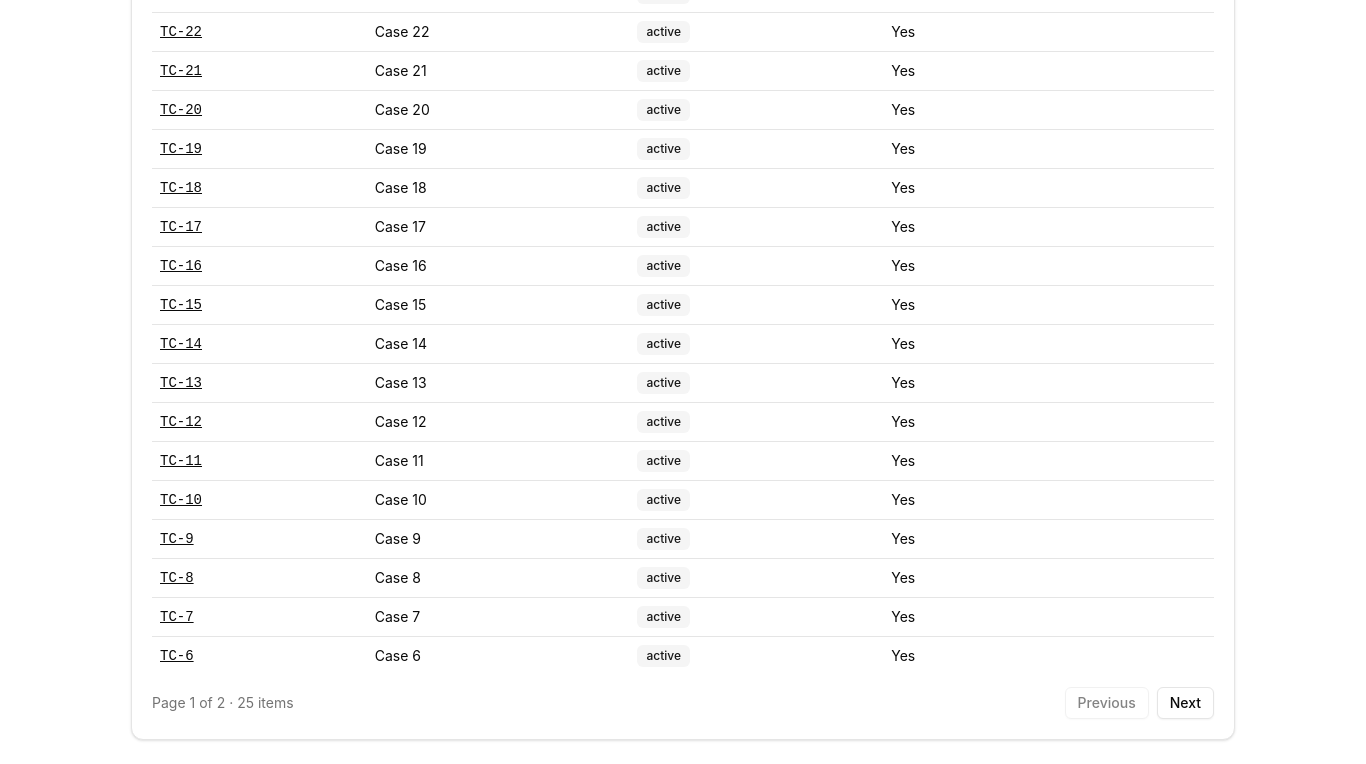
Test: FE-INT-002 test case list › FE-INT-002 filters by status and paginates
The width and height of the screenshot is (1366, 764).
(page scrolled)
Expected: the text "Page 1 of 2 · 25 items" is shown, [152,692,294,712]
Expected: the button "Previous" is disabled, [1065,686,1149,718]
Click the button "Next" at (1185, 702), box [1157,686,1214,718]
(page scrolled)
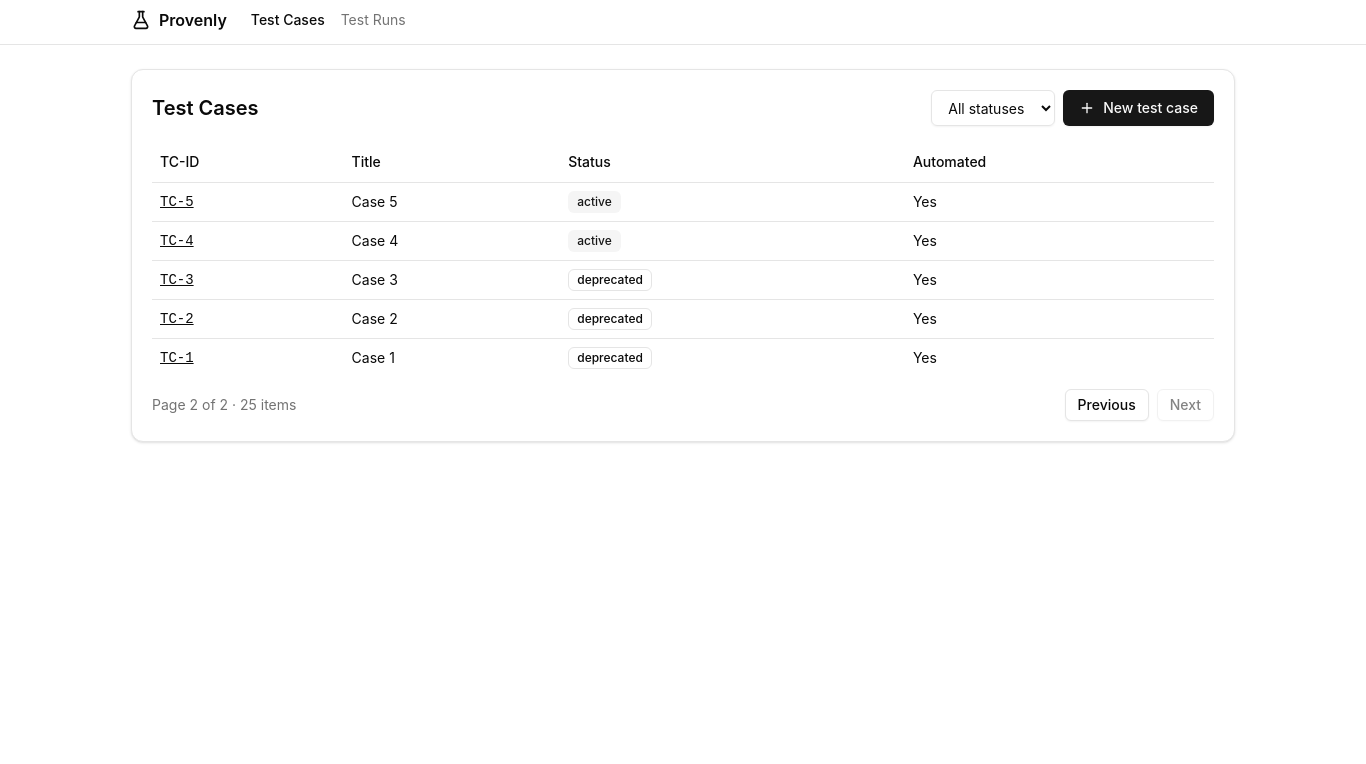
Now the text "Page 2 of 2 · 25 items" is shown, box [152,394,296,414]
Select "Deprecated" in the dropdown named "Filter by status" at (993, 108), box [931,90,1055,126]
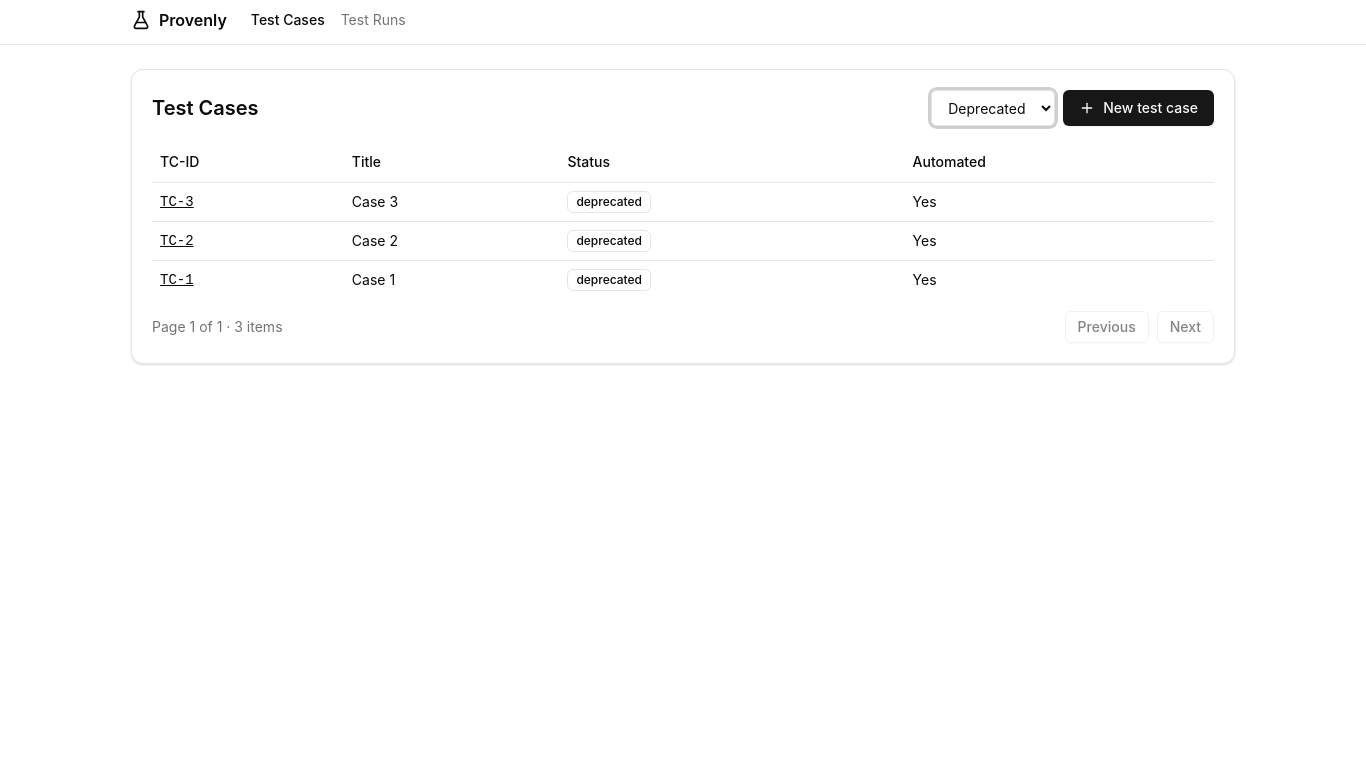
Now the text "Page 1 of 1 · 3 items" is shown, box [152,316,282,336]
Select "All statuses" in the dropdown named "Filter by status" at (993, 108), box [931,90,1055,126]
(page scrolled)
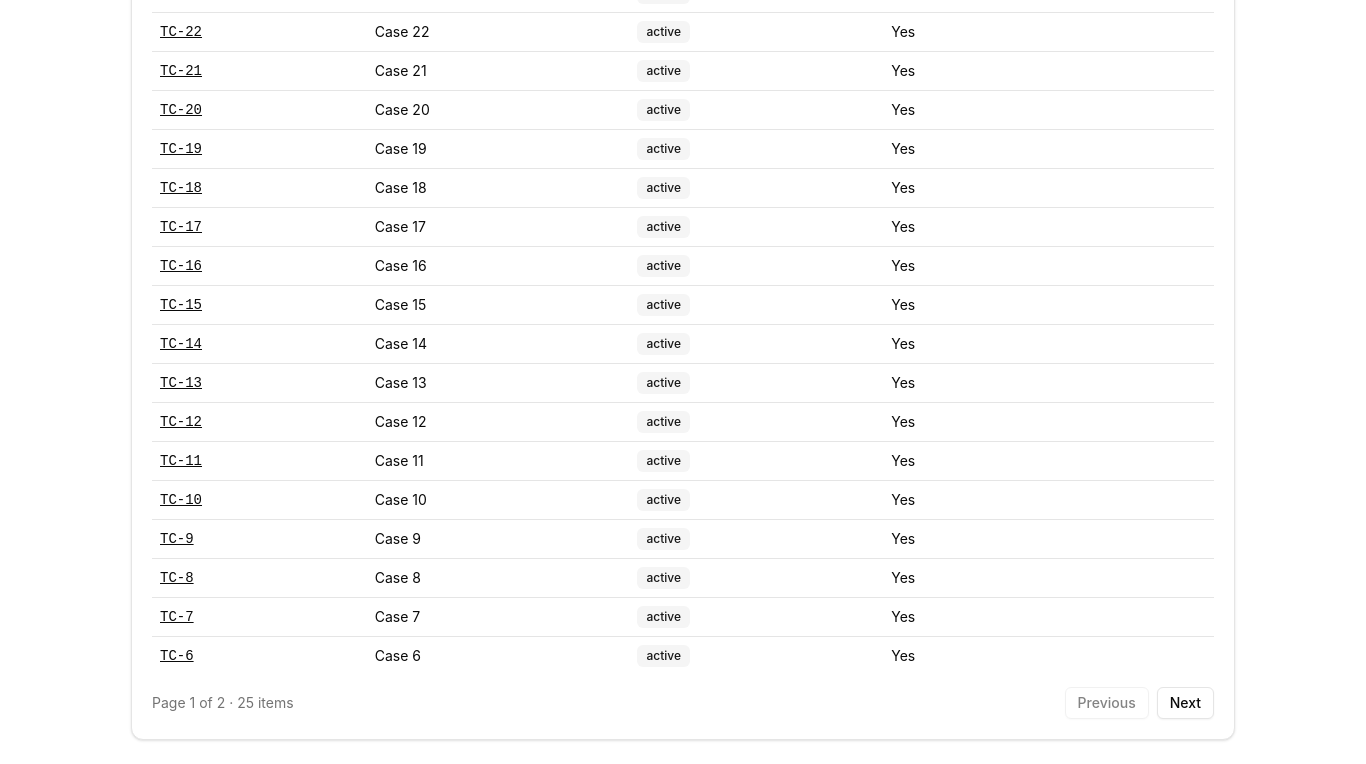
Now the text "Page 1 of 2 · 25 items" is shown, box [152,692,294,712]
